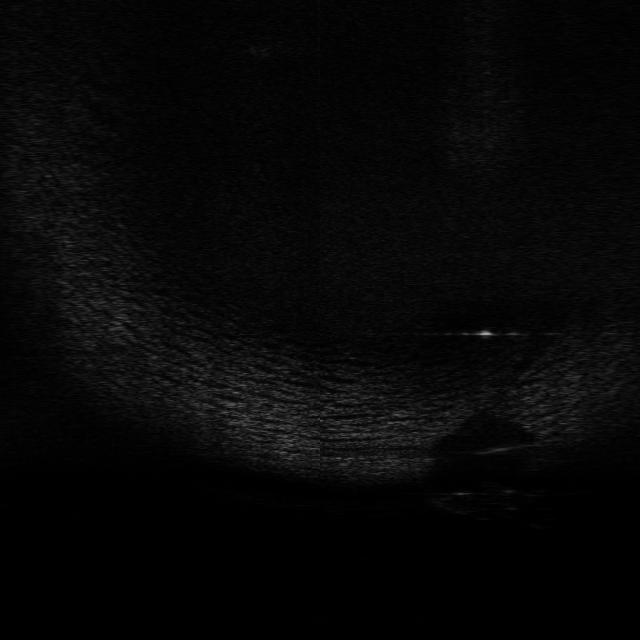cube: (430, 479, 540, 525)
